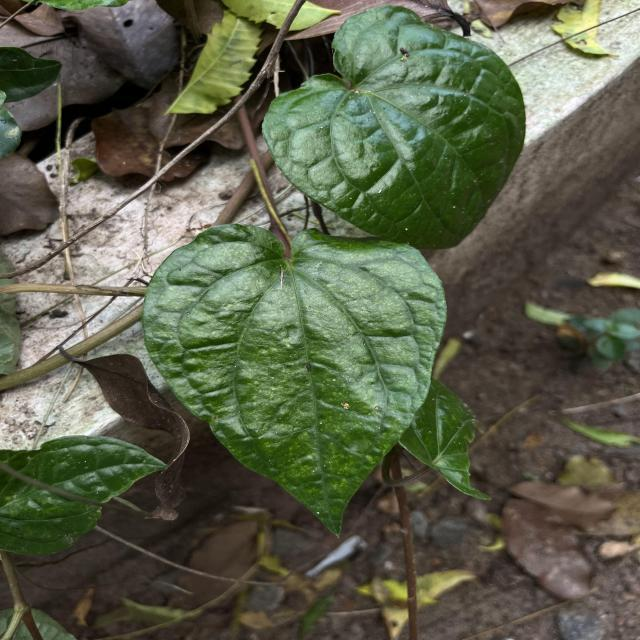Piper betle: (138, 219, 452, 542), (257, 2, 532, 254)
